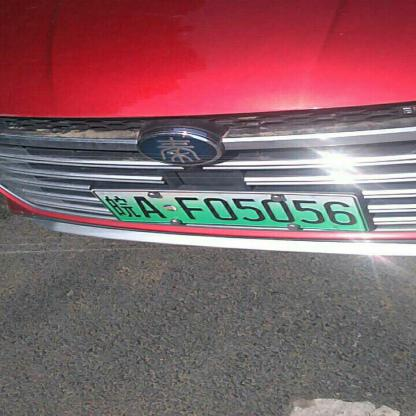lp: (92, 190, 367, 230)
